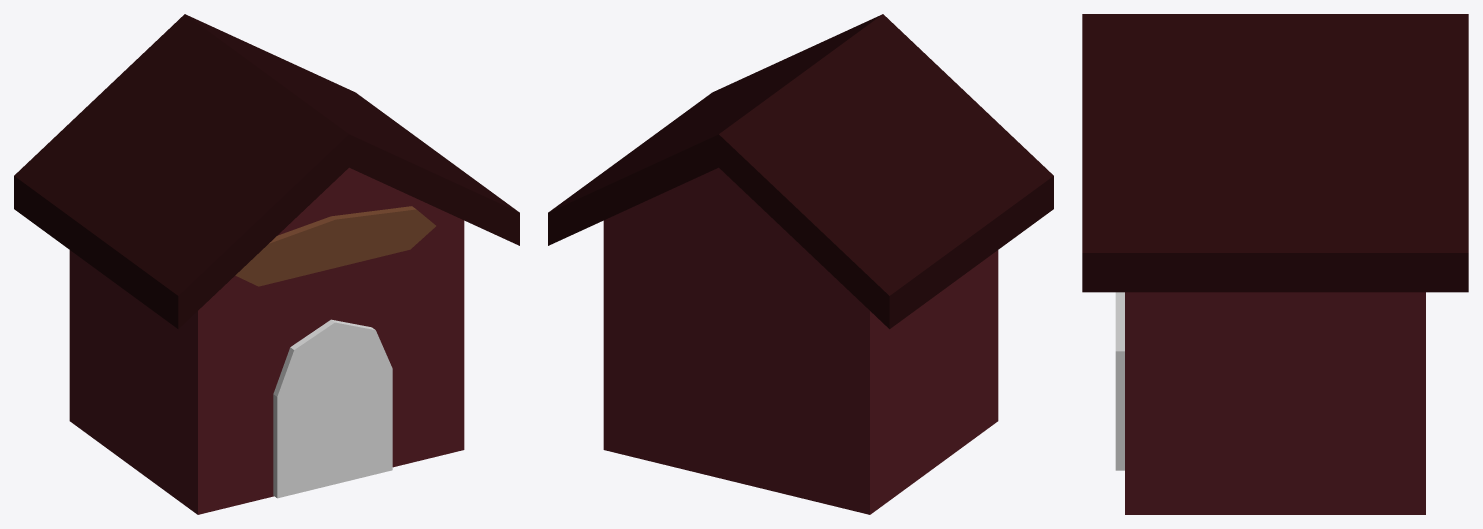
File: CasaCachorro.fbx
3 views of the same model, side by side, from view 1: azimuth 30°, elevation 25°; view 2: azimuth 150°, elevation 25°; view 3: azimuth 270°, elevation 25° (orthographic). The views are drawn at different scales.
Visible parts, largest first — view 1: Telhado, Casa, Circle, Placa; view 2: Casa, Telhado; view 3: Telhado, Casa, Circle.
Boxes of the visible parts, bbox=[...] form: Telhado: bbox=[14, 14, 519, 329]; Casa: bbox=[69, 167, 464, 514]; Circle: bbox=[273, 319, 392, 498]; Placa: bbox=[235, 206, 435, 286]; Casa: bbox=[603, 167, 998, 514]; Telhado: bbox=[548, 14, 1053, 329]; Telhado: bbox=[1082, 14, 1468, 292]; Casa: bbox=[1125, 292, 1425, 514]; Circle: bbox=[1115, 292, 1124, 470].
Bounding box in the file's own units: 154 × 156 × 128.
